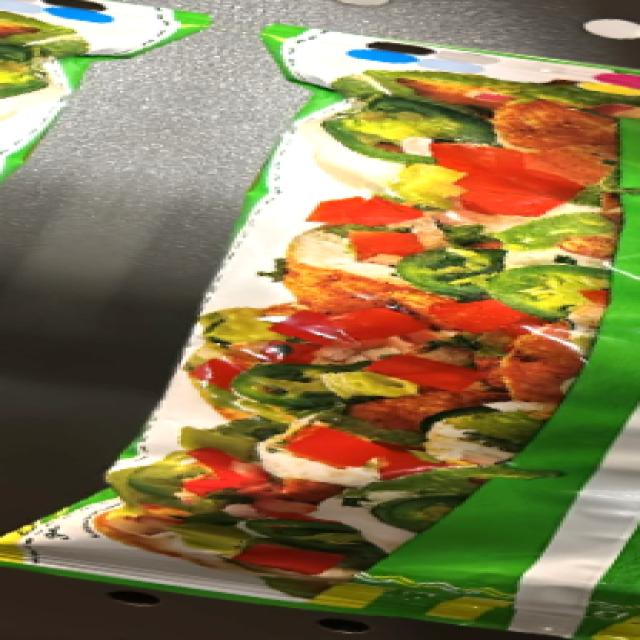productoAtras: (308, 37, 640, 613)
